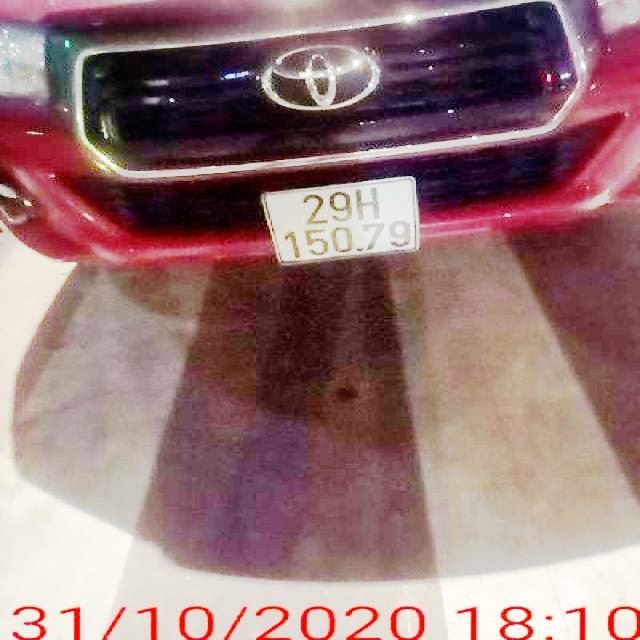license_plate: (264, 179, 422, 258)
